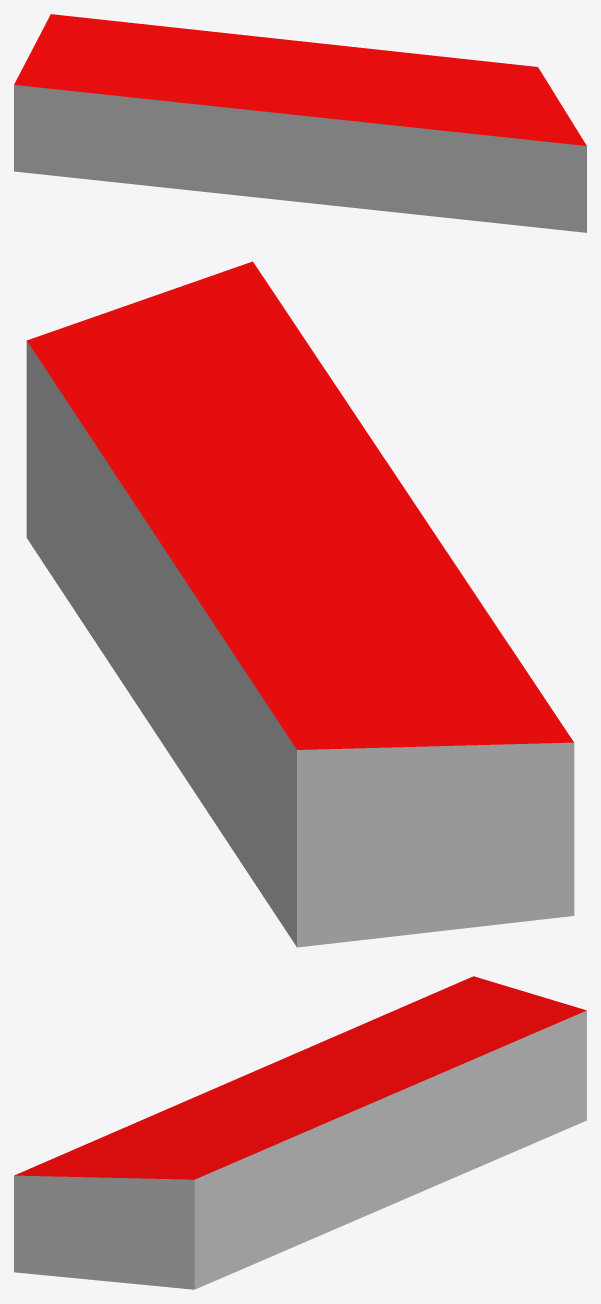
The picture shows the model from 3 angles, top to bottom: view 1: azimuth 30°, elevation 25°; view 2: azimuth 150°, elevation 25°; view 3: azimuth 270°, elevation 25°; orthographic projection. The views are drawn at different scales.
Bounding box in the file's own units: 11.21 × 2.65 × 12.51.
